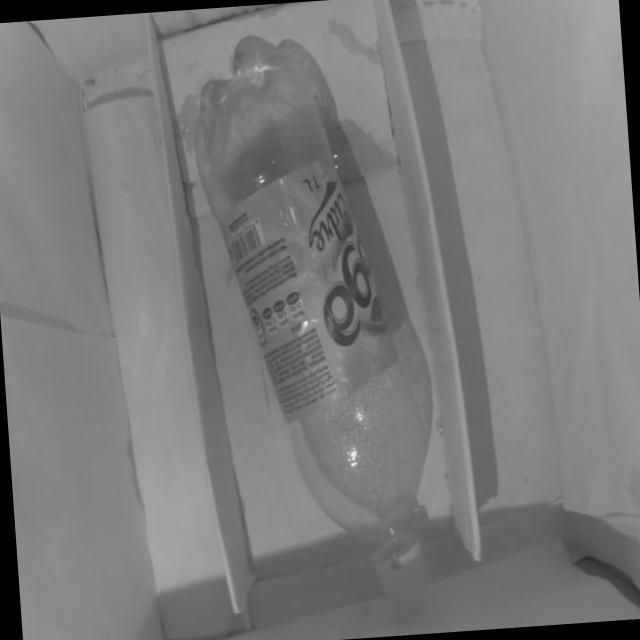good: (183, 26, 451, 623)
